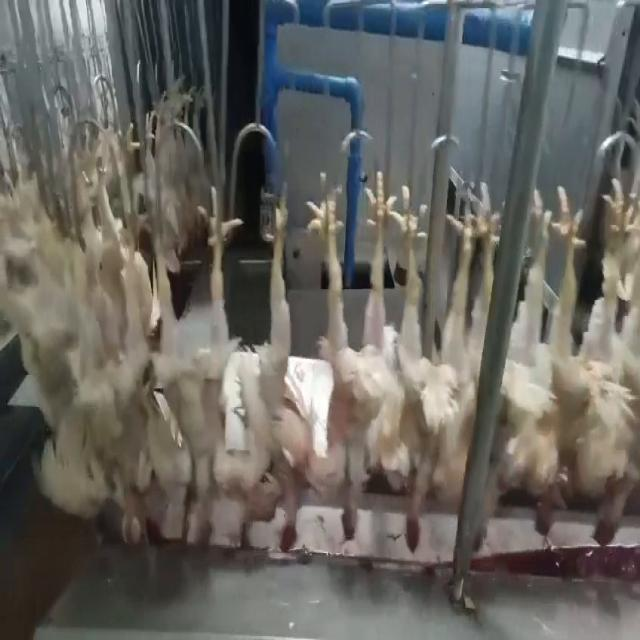chicken: (373, 184, 478, 555), (303, 176, 399, 543), (206, 182, 298, 555), (114, 195, 194, 549), (494, 186, 572, 540), (572, 176, 639, 551)
